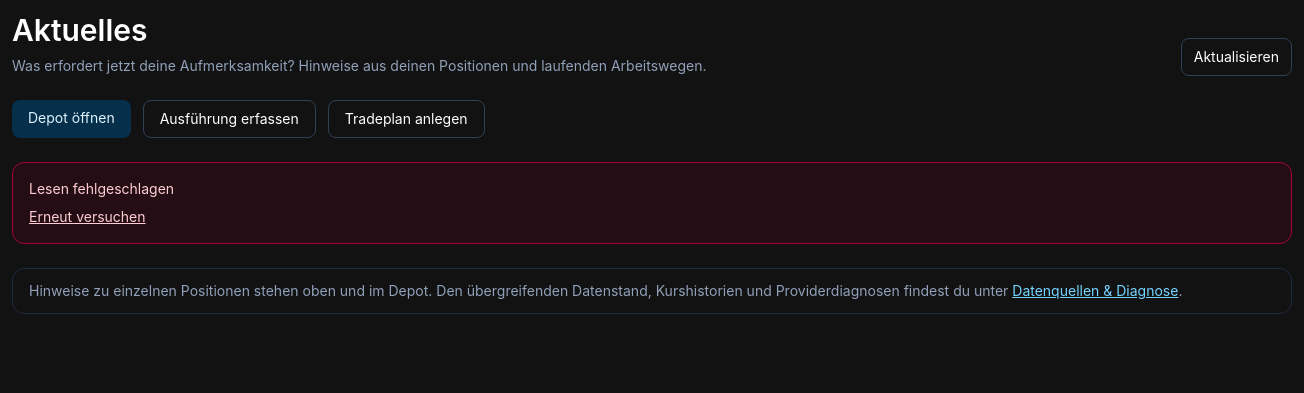
Test case: retries an action read without requesting positions or presenting an empty list as healthy
Check: the message shows "Lesen fehlgeschlagen", box [29,180,174,197]
Step 1. Click the button "Erneut versuchen" → (87, 217), box [29,207,146,227]
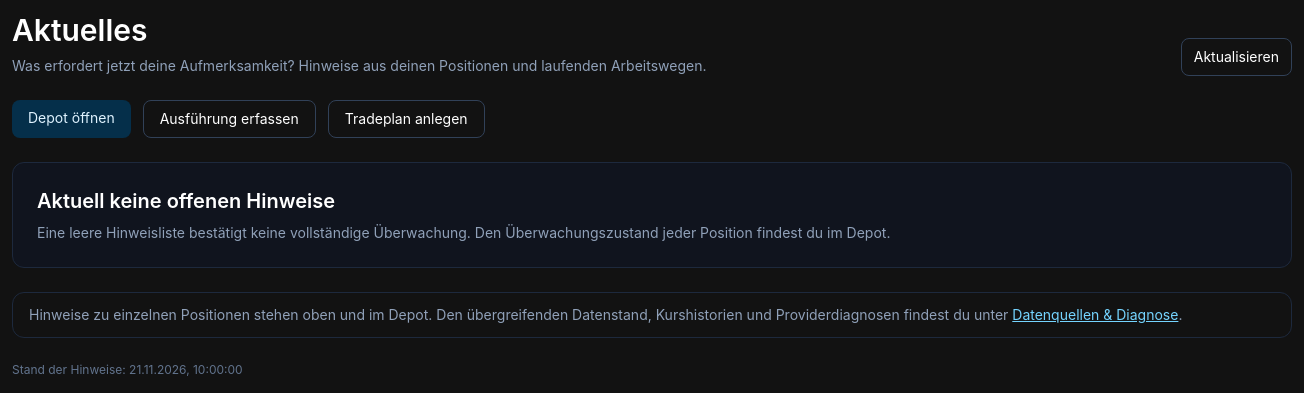
Check: the text "Eine leere Hinweisliste bestätigt keine vollständige Überwachung" is shown, box [37,224,890,241]
